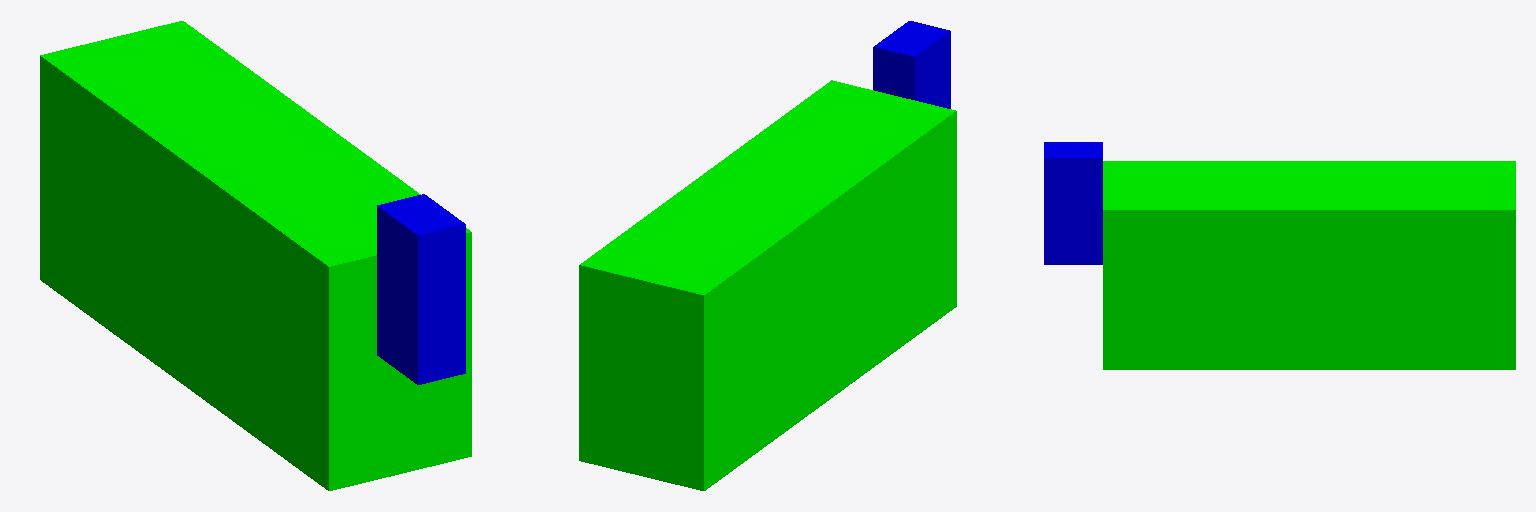
robot.urdf — robot:
<robot name = "robot">
    <link name="root">
        <inertial>
            <origin xyz="0.0 0.0 1.5" rpy="0 0 0"/>
            <mass value="1" />
            <inertia ixx="100" ixy="0" ixz="0" iyy="100" iyz="0" izz="100" />
        </inertial>
        <visual>
            <origin xyz="0.0 0.0 1.5" rpy="0 0 0"/>
            <geometry>
                <box size="0 0 0.0001" />
            </geometry>
            <material name="Green">
                <color rgba="0 1.0 0.0 1.0"/>
            </material>
        </visual>
        <collision>
            <origin xyz="0.0 0.0 1.5" rpy="0 0 0"/>
            <geometry>
                <box size="0 0 0.0001" />
            </geometry>
        </collision>
    </link>
    <joint name="root_000" type="revolute">
       <parent link="root"/>
       <child  link="000"/>
       <origin rpy="0 0 0" xyz="0.0 0.0 1.5" />
     <axis xyz="1 0 0"/>
       <limit effort="0.0" lower="-3.14159" upper="3.14159" velocity="0.0"/>
    </joint>
    <link name="000">
        <inertial>
            <origin xyz="0.0 0.0 -0.3" rpy="0 0 0"/>
            <mass value="1" />
            <inertia ixx="100" ixy="0" ixz="0" iyy="100" iyz="0" izz="100" />
        </inertial>
        <visual>
            <origin xyz="0.0 0.0 -0.3" rpy="0 0 0"/>
            <geometry>
                <box size="0.2 0.3 0.6" />
            </geometry>
            <material name="Blue">
                <color rgba="0 0.0 1.0 1.0"/>
            </material>
        </visual>
        <collision>
            <origin xyz="0.0 0.0 -0.3" rpy="0 0 0"/>
            <geometry>
                <box size="0.2 0.3 0.6" />
            </geometry>
        </collision>
    </link>
    <joint name="000_000-100" type="revolute">
       <parent link="000"/>
       <child  link="000-100"/>
       <origin rpy="0 0 0" xyz="0.0 0.15 -0.3" />
     <axis xyz="0 1 0"/>
       <limit effort="0.0" lower="-3.14159" upper="3.14159" velocity="0.0"/>
    </joint>
    <link name="000-100">
        <inertial>
            <origin xyz="0.0 0.35 -0.0" rpy="0 0 0"/>
            <mass value="1" />
            <inertia ixx="100" ixy="0" ixz="0" iyy="100" iyz="0" izz="100" />
        </inertial>
        <visual>
            <origin xyz="0.0 0.35 -0.0" rpy="0 0 0"/>
            <geometry>
                <box size="0.6 0.7 0.2" />
            </geometry>
            <material name="Green">
                <color rgba="0 1.0 0.0 1.0"/>
            </material>
        </visual>
        <collision>
            <origin xyz="0.0 0.35 -0.0" rpy="0 0 0"/>
            <geometry>
                <box size="0.6 0.7 0.2" />
            </geometry>
        </collision>
    </link>
    <joint name="000-100_000-110" type="revolute">
       <parent link="000-100"/>
       <child  link="000-110"/>
       <origin rpy="0 0 0" xyz="0.0 0.7 -0.0" />
     <axis xyz="0 1 0"/>
       <limit effort="0.0" lower="-3.14159" upper="3.14159" velocity="0.0"/>
    </joint>
    <link name="000-110">
        <inertial>
            <origin xyz="0.0 0.35 -0.0" rpy="0 0 0"/>
            <mass value="1" />
            <inertia ixx="100" ixy="0" ixz="0" iyy="100" iyz="0" izz="100" />
        </inertial>
        <visual>
            <origin xyz="0.0 0.35 -0.0" rpy="0 0 0"/>
            <geometry>
                <box size="0.6 0.7 0.2" />
            </geometry>
            <material name="Green">
                <color rgba="0 1.0 0.0 1.0"/>
            </material>
        </visual>
        <collision>
            <origin xyz="0.0 0.35 -0.0" rpy="0 0 0"/>
            <geometry>
                <box size="0.6 0.7 0.2" />
            </geometry>
        </collision>
    </link>
    <joint name="000-110_000-120" type="revolute">
       <parent link="000-110"/>
       <child  link="000-120"/>
       <origin rpy="0 0 0" xyz="0.0 0.7 -0.0" />
     <axis xyz="0 1 0"/>
       <limit effort="0.0" lower="-3.14159" upper="3.14159" velocity="0.0"/>
    </joint>
    <link name="000-120">
        <inertial>
            <origin xyz="0.0 0.35 -0.0" rpy="0 0 0"/>
            <mass value="1" />
            <inertia ixx="100" ixy="0" ixz="0" iyy="100" iyz="0" izz="100" />
        </inertial>
        <visual>
            <origin xyz="0.0 0.35 -0.0" rpy="0 0 0"/>
            <geometry>
                <box size="0.6 0.7 0.2" />
            </geometry>
            <material name="Green">
                <color rgba="0 1.0 0.0 1.0"/>
            </material>
        </visual>
        <collision>
            <origin xyz="0.0 0.35 -0.0" rpy="0 0 0"/>
            <geometry>
                <box size="0.6 0.7 0.2" />
            </geometry>
        </collision>
    </link>
    <joint name="000-120_000-120-200" type="revolute">
       <parent link="000-120"/>
       <child  link="000-120-200"/>
       <origin rpy="0 0 0" xyz="0.0 0.35 -0.1" />
     <axis xyz="0 0 1"/>
       <limit effort="0.0" lower="-3.14159" upper="3.14159" velocity="0.0"/>
    </joint>
    <link name="000-120-200">
        <inertial>
            <origin xyz="0.0 0.0 -0.35" rpy="0 0 0"/>
            <mass value="1" />
            <inertia ixx="100" ixy="0" ixz="0" iyy="100" iyz="0" izz="100" />
        </inertial>
        <visual>
            <origin xyz="0.0 0.0 -0.35" rpy="0 0 0"/>
            <geometry>
                <box size="0.6 0.7 0.7" />
            </geometry>
            <material name="Green">
                <color rgba="0 1.0 0.0 1.0"/>
            </material>
        </visual>
        <collision>
            <origin xyz="0.0 0.0 -0.35" rpy="0 0 0"/>
            <geometry>
                <box size="0.6 0.7 0.7" />
            </geometry>
        </collision>
    </link>
    <joint name="000-110_000-110-200" type="revolute">
       <parent link="000-110"/>
       <child  link="000-110-200"/>
       <origin rpy="0 0 0" xyz="0.0 0.35 -0.1" />
     <axis xyz="0 0 1"/>
       <limit effort="0.0" lower="-3.14159" upper="3.14159" velocity="0.0"/>
    </joint>
    <link name="000-110-200">
        <inertial>
            <origin xyz="0.0 0.0 -0.35" rpy="0 0 0"/>
            <mass value="1" />
            <inertia ixx="100" ixy="0" ixz="0" iyy="100" iyz="0" izz="100" />
        </inertial>
        <visual>
            <origin xyz="0.0 0.0 -0.35" rpy="0 0 0"/>
            <geometry>
                <box size="0.6 0.7 0.7" />
            </geometry>
            <material name="Green">
                <color rgba="0 1.0 0.0 1.0"/>
            </material>
        </visual>
        <collision>
            <origin xyz="0.0 0.0 -0.35" rpy="0 0 0"/>
            <geometry>
                <box size="0.6 0.7 0.7" />
            </geometry>
        </collision>
    </link>
    <joint name="000-100_000-100-200" type="revolute">
       <parent link="000-100"/>
       <child  link="000-100-200"/>
       <origin rpy="0 0 0" xyz="0.0 0.35 -0.1" />
     <axis xyz="0 0 1"/>
       <limit effort="0.0" lower="-3.14159" upper="3.14159" velocity="0.0"/>
    </joint>
    <link name="000-100-200">
        <inertial>
            <origin xyz="0.0 0.0 -0.35" rpy="0 0 0"/>
            <mass value="1" />
            <inertia ixx="100" ixy="0" ixz="0" iyy="100" iyz="0" izz="100" />
        </inertial>
        <visual>
            <origin xyz="0.0 0.0 -0.35" rpy="0 0 0"/>
            <geometry>
                <box size="0.6 0.7 0.7" />
            </geometry>
            <material name="Green">
                <color rgba="0 1.0 0.0 1.0"/>
            </material>
        </visual>
        <collision>
            <origin xyz="0.0 0.0 -0.35" rpy="0 0 0"/>
            <geometry>
                <box size="0.6 0.7 0.7" />
            </geometry>
        </collision>
    </link>
</robot>

--- Render facts (derived) ---
Views: 3 orthographic renders of the robot side by side, from view 1: azimuth 30°, elevation 25°; view 2: azimuth 150°, elevation 25°; view 3: azimuth 270°, elevation 25°.
Robot: robot — 8 links, 7 joints (7 revolute); root link root; default pose: every joint at zero.
Visible links, largest first — view 1: [phone redacted] (×3), 000-110, 000-120, 000-100, 000; view 2: [phone redacted] (×3), 000-120, 000-110, 000-100, 000; view 3: [phone redacted] (×3), 000-100, 000-120, 000-110, 000.
Link boxes in pixels (<box>): [phone redacted] (×3): <box>40,106,471,490</box>; 000-110: <box>136,91,375,245</box>; 000-120: <box>40,21,278,174</box>; 000-100: <box>233,162,471,316</box>; 000: <box>377,194,465,384</box>; [phone redacted] (×3): <box>579,154,956,490</box>; 000-120: <box>579,203,787,338</box>; 000-110: <box>664,142,872,276</box>; 000-100: <box>748,80,956,214</box>; 000: <box>873,21,950,108</box>; [phone redacted] (×3): <box>1103,246,1515,369</box>; 000-100: <box>1103,161,1240,245</box>; 000-120: <box>1378,161,1515,245</box>; 000-110: <box>1241,161,1377,245</box>; 000: <box>1044,142,1102,264</box>.
Size in the robot's own frame: 0.6 by 2.4 by 1.1 metres.
Geometry: primitives only (box / cylinder / sphere), no mesh files.
